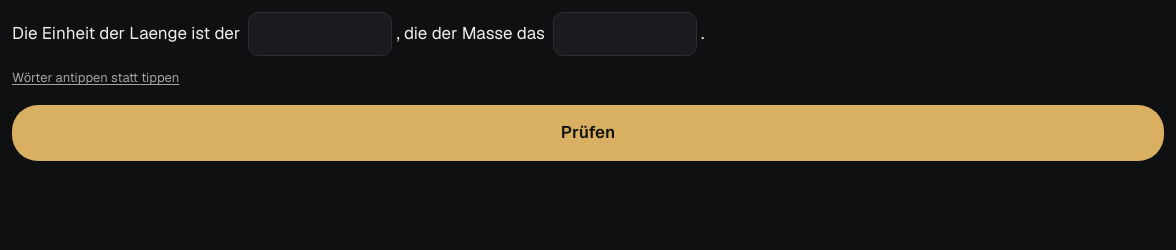
Scenario: ClozeCard – Wortbank › gibt ein Wort wieder frei, wenn die Lücke geleert wird
Click the button "Wörter antippen statt tippen": point(96, 78) [12, 68, 179, 88]
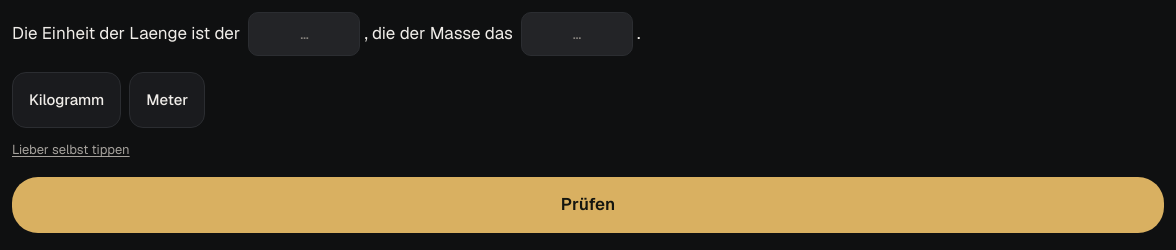
Click the button "Meter": point(167, 100) [129, 72, 205, 128]
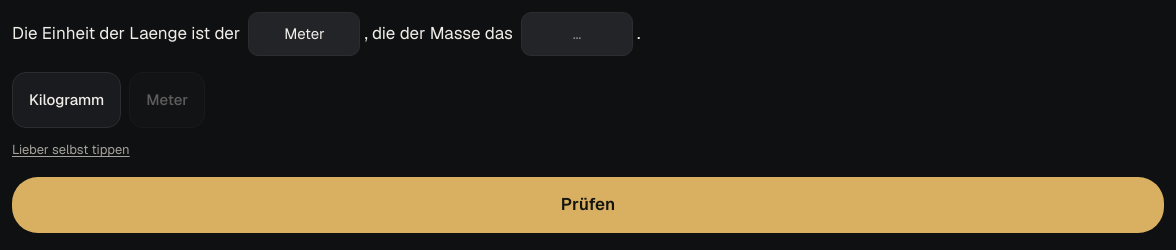
expect the 2nd button "Meter" is disabled: met, box [129, 72, 205, 128]
Click the button with aria-label "Lücke 1": point(304, 34) [248, 12, 360, 56]
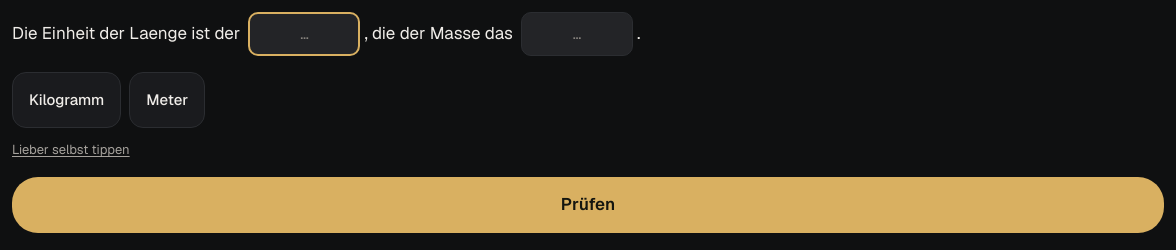
expect the button "Meter" is enabled: met, box [129, 72, 205, 128]
